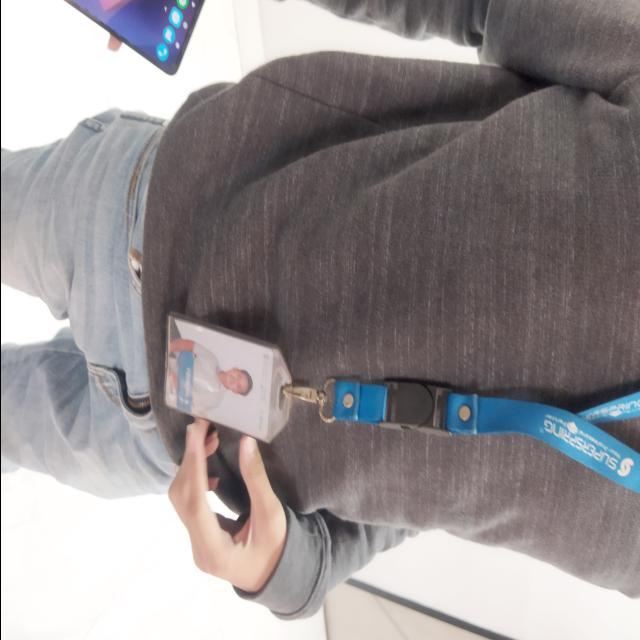id_card: (160, 306, 640, 512)
